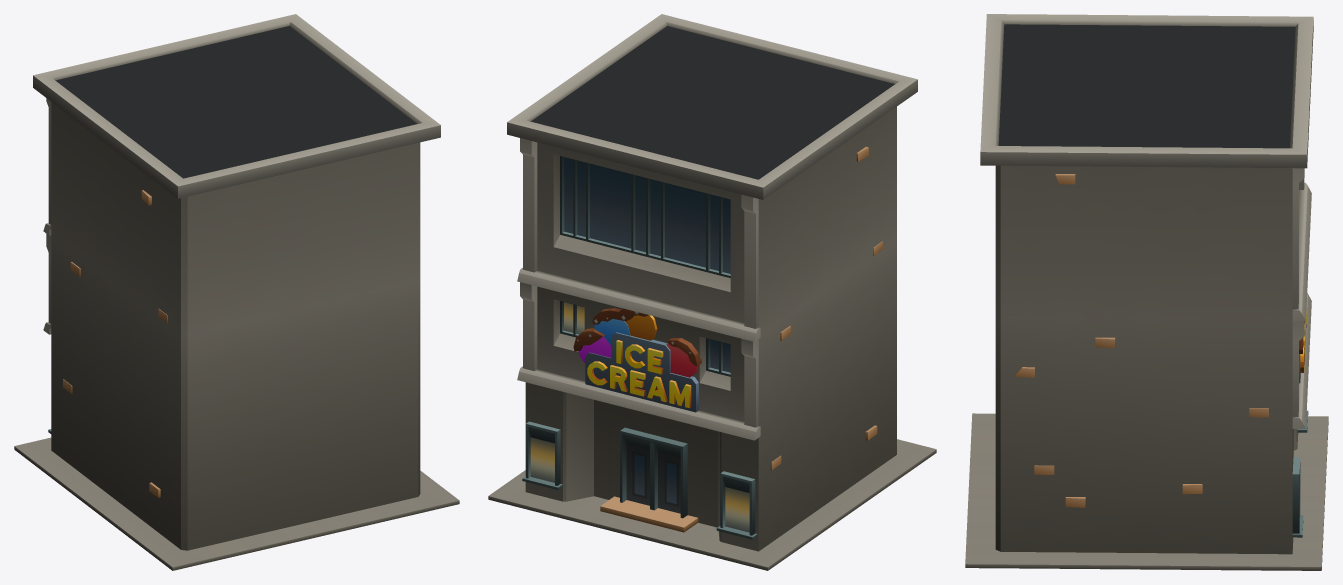
The model's file is BLD1210012.fbx.
3 views of the same model, side by side, from view 1: azimuth 30°, elevation 25°; view 2: azimuth 150°, elevation 25°; view 3: azimuth 270°, elevation 25° (orthographic). The views are drawn at different scales.
Visible parts, largest first — view 1: smBLD1210012; view 2: smBLD1210012; view 3: smBLD1210012.
Part boxes in pixels (bbox=[...]): smBLD1210012: bbox=[14, 14, 459, 570]; smBLD1210012: bbox=[488, 14, 936, 570]; smBLD1210012: bbox=[965, 14, 1328, 570].
Bounding box in the file's own units: 1205 × 1499 × 1205.
1 material, 1 textured.
